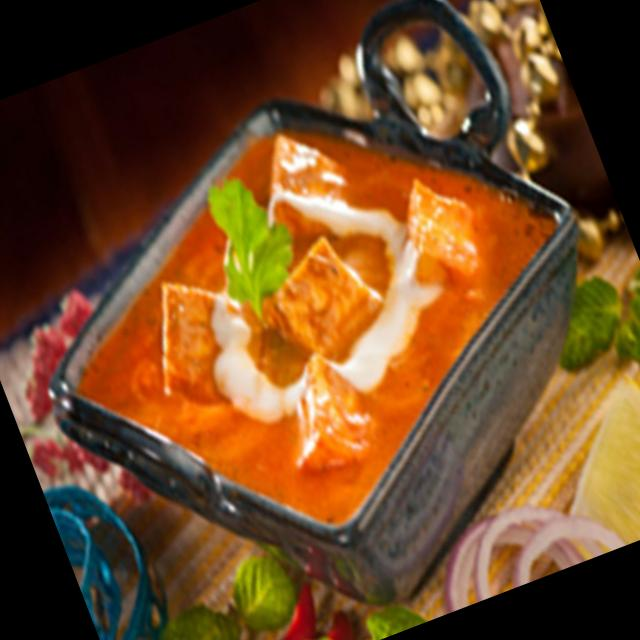ShahiPaneer: (9, 44, 632, 598)
